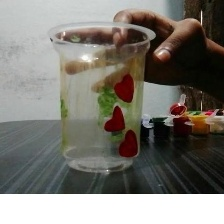glass: (43, 14, 160, 182)
